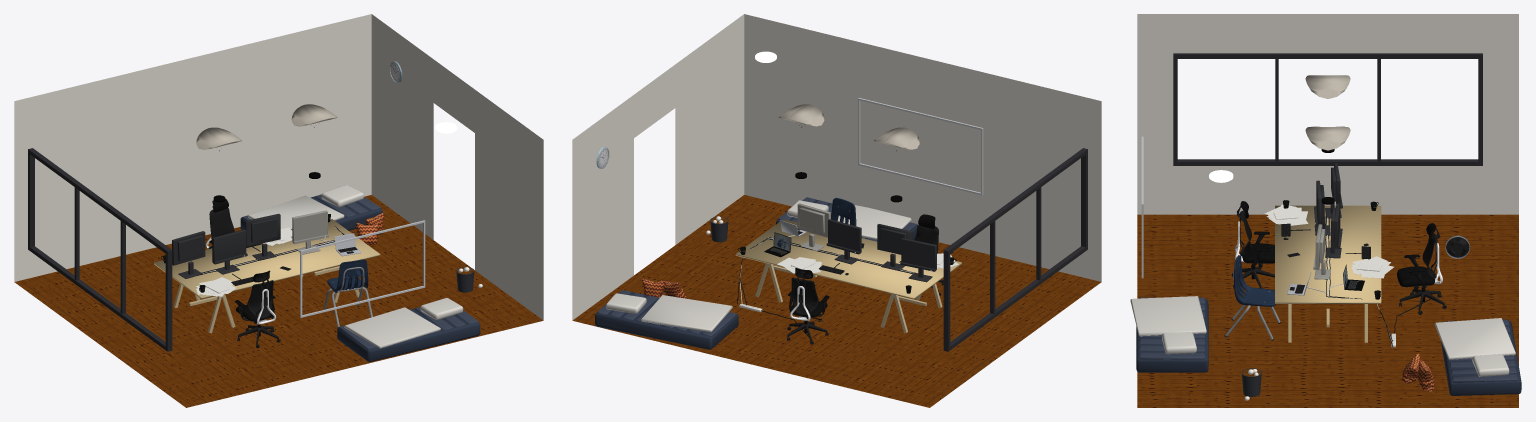
Rendered from set7.glb.
3 renders of one model, left to right at view 1: azimuth 30°, elevation 25°; view 2: azimuth 150°, elevation 25°; view 3: azimuth 270°, elevation 25°, orthographic. The views are drawn at different scales.
Parts seen in each view (by area): view 1: Static; view 2: Static; view 3: Static.
Boxes of the visible parts, left/top/right/bottom form: Static: left=14, top=14, right=543, bottom=407; Static: left=572, top=14, right=1101, bottom=407; Static: left=1130, top=14, right=1521, bottom=407.
Size of the model in its own units: 6.04 by 2.9 by 5.13.
39 materials, 16 textured.
